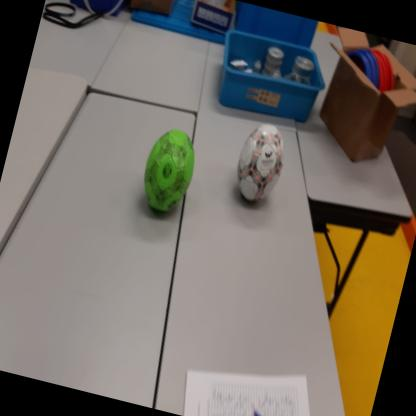ball: (136, 124, 204, 220), (230, 117, 292, 211)
